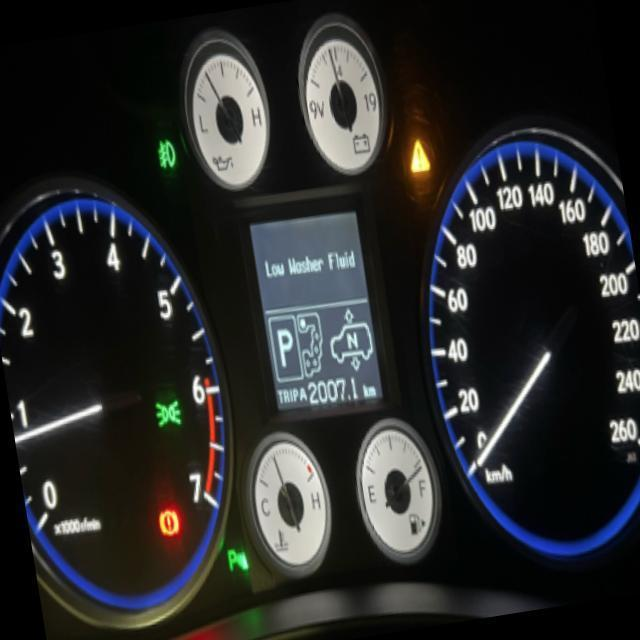Central Warning lamp: (402, 128, 436, 184)
